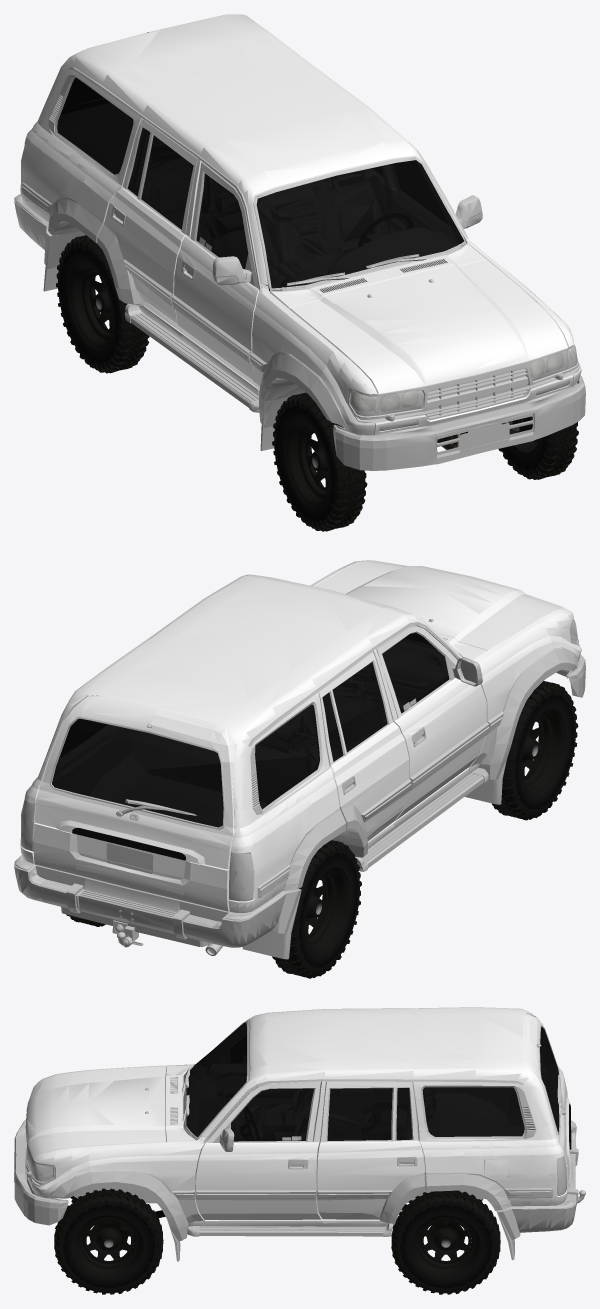
The model's file is Vehicle-2.FBX.
The picture shows the model from 3 angles, top to bottom: view 1: azimuth 30°, elevation 25°; view 2: azimuth 150°, elevation 25°; view 3: azimuth 270°, elevation 25°; orthographic projection. The views are drawn at different scales.
Visible parts, largest first — view 1: Body, Bonnet, Glass, RightDoor2, RightDoor, BumpFront, FrontRight, BackRight, glass-2, FrontLeft, lampglass, BumpBack (+1 smaller); view 2: Body, BackDoor, RightDoor, BumpBack, RightDoor2, Bonnet, FrontRight, BackRight, glass-2, BumpFront; view 3: Body, LeftDoor, LeftDoor2, Bonnet, BackLeft, FrontLeft, glass-2, Glass, BackDoor, BumpBack, BumpFront, lampglass.
Part boxes in pixels (box(x1,y1,x2,y2)): Body: box(20, 14, 581, 450); Bonnet: box(289, 260, 567, 393); Glass: box(256, 160, 466, 290); RightDoor2: box(97, 118, 197, 331); RightDoor: box(171, 161, 258, 387); BumpFront: box(333, 375, 585, 470); FrontRight: box(272, 392, 367, 531); BackRight: box(56, 235, 149, 373); glass-2: box(57, 77, 133, 174); FrontLeft: box(498, 416, 578, 479); lampglass: box(349, 344, 578, 417); BumpBack: box(14, 194, 85, 291); Body: box(20, 560, 581, 955); BackDoor: box(33, 695, 234, 911); RightDoor: box(376, 625, 489, 821); BumpBack: box(14, 855, 301, 959); RightDoor2: box(318, 651, 411, 857); Bonnet: box(314, 560, 563, 651); FrontRight: box(491, 681, 578, 820); BackRight: box(272, 840, 361, 978); glass-2: box(255, 704, 319, 809); BumpFront: box(556, 654, 585, 697); Body: box(25, 1007, 567, 1261); LeftDoor: box(195, 1081, 321, 1219); LeftDoor2: box(316, 1081, 425, 1223); Bonnet: box(26, 1066, 166, 1159); BackLeft: box(391, 1190, 500, 1294); FrontLeft: box(54, 1188, 163, 1294); glass-2: box(422, 1087, 524, 1136); Glass: box(186, 1022, 246, 1139); BackDoor: box(525, 1013, 571, 1194); BumpBack: box(496, 1120, 585, 1260); BumpFront: box(14, 1119, 68, 1225); lampglass: box(26, 1147, 53, 1182).
Bounding box in the file's own units: 1.89 × 1.86 × 4.49.
